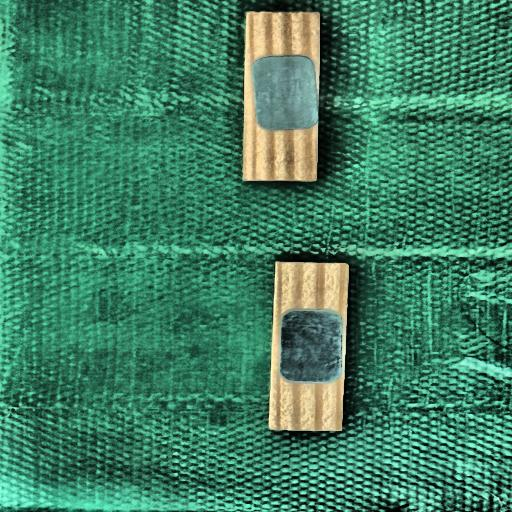objects: (268, 260, 348, 432), (242, 10, 321, 182)
